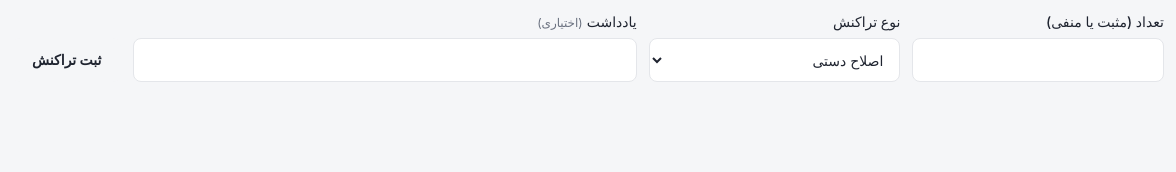
InventoryAdjustForm › shows the API error message when the adjustment is refused
Type "-50" into the field labelled "تعداد (مثبت یا منفی)".
click(1038, 60); type("-50")  # box [912, 38, 1164, 82]
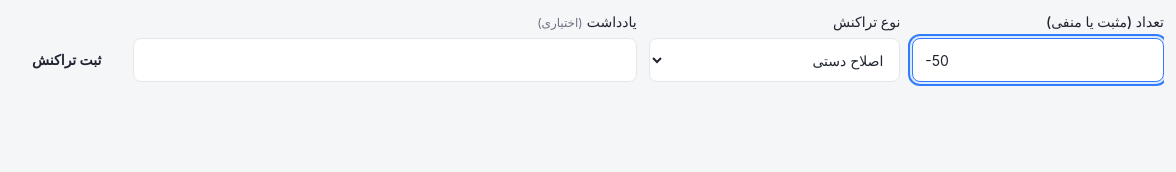
Click the button "ثبت تراکنش".
click(67, 60)  # box [12, 38, 121, 82]
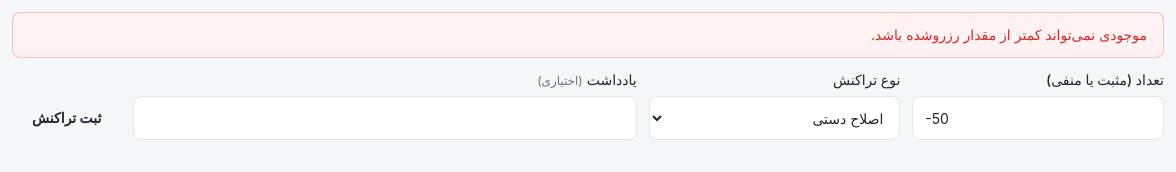
Expected: the text "موجودی نمی‌تواند کمتر از مقدار رزروشده باشد." is shown, [12, 12, 1164, 58]
